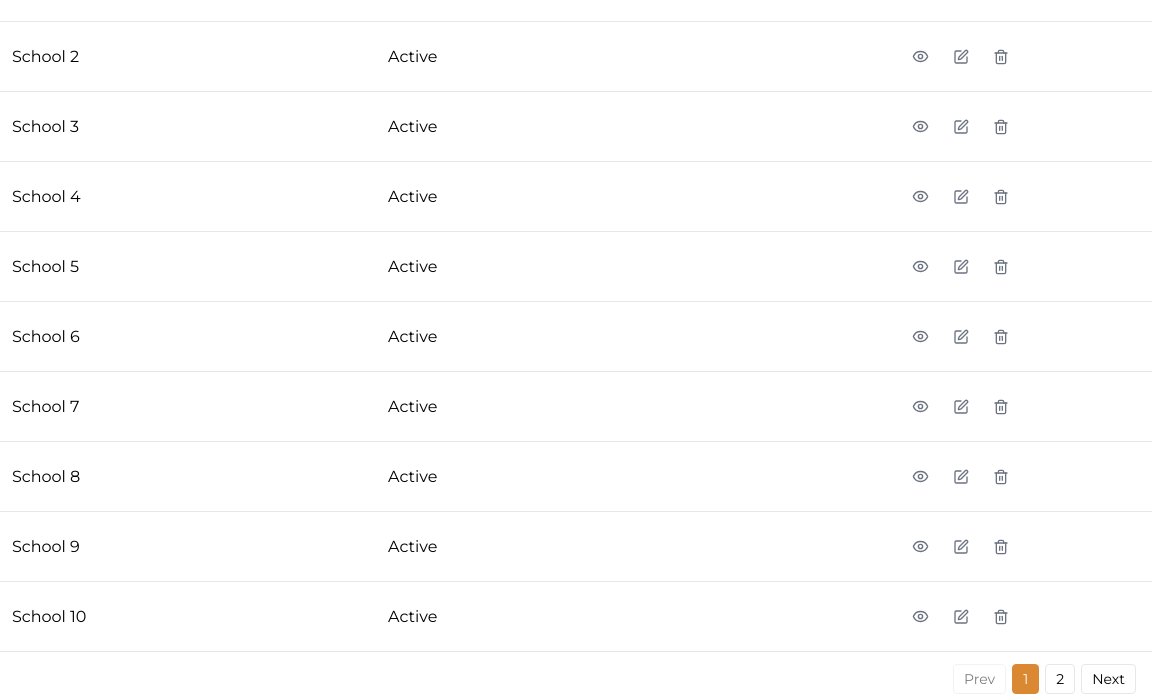
Test: ListTable — pagination › navigates back to previous page
The width and height of the screenshot is (1152, 697).
(page scrolled)
What coordinates should you click on to do the following:
click the button "Next"
I would click on:
 (1109, 679)
Its box is left=1081, top=664, right=1136, bottom=694.
(page scrolled)
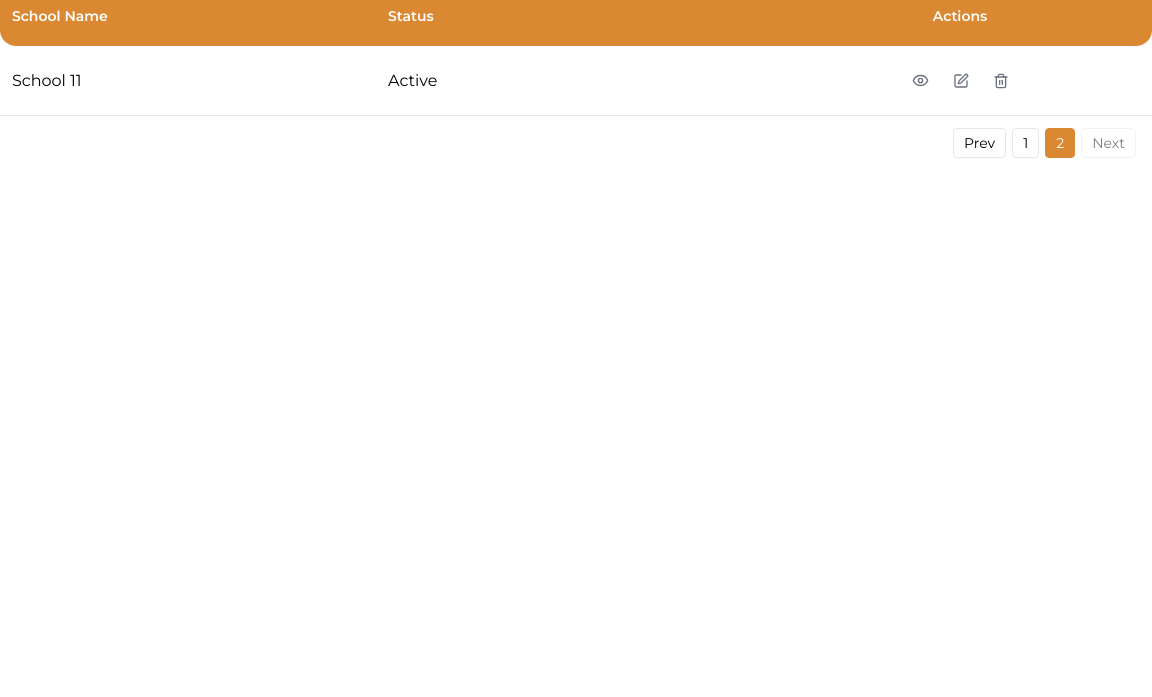
Now the text "School 11" is shown, box left=12, top=68, right=82, bottom=92
What coordinates should you click on to do the following:
click the button "Prev"
I would click on:
 (980, 143)
Its box is left=953, top=128, right=1006, bottom=158.
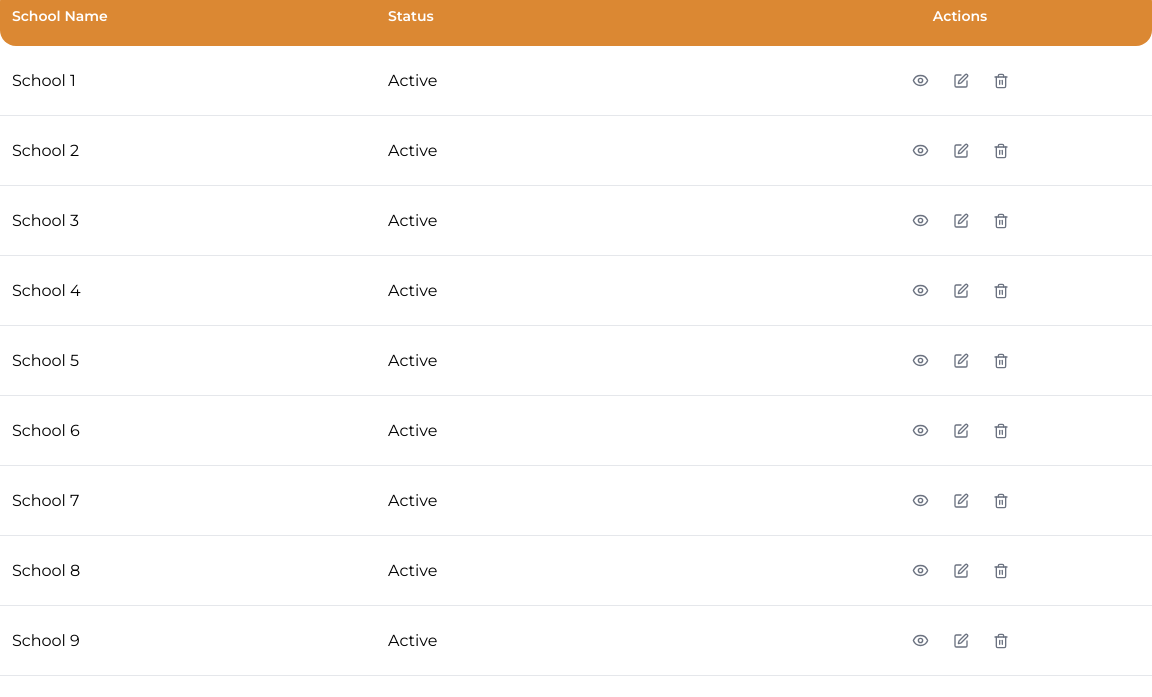
Expected: the text "School 1" is shown, left=12, top=68, right=76, bottom=92
Now the text "School 11" is gone
